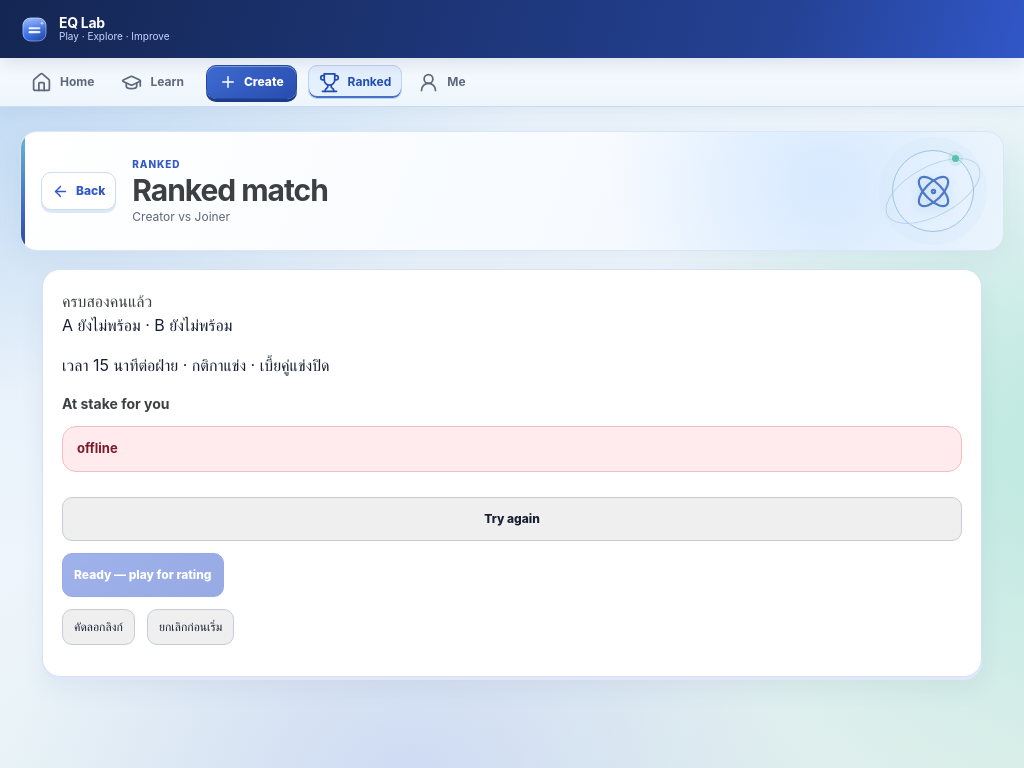
Scenario: the Ready step › offers a retry, and no Ready, when the stakes cannot be loaded
Expected: the message "offline" is shown, [62, 426, 962, 472]
Expected: the button "Ready — play for rating" is disabled, [62, 552, 224, 596]
Click the button "Try again" at (512, 518), box [62, 496, 962, 540]
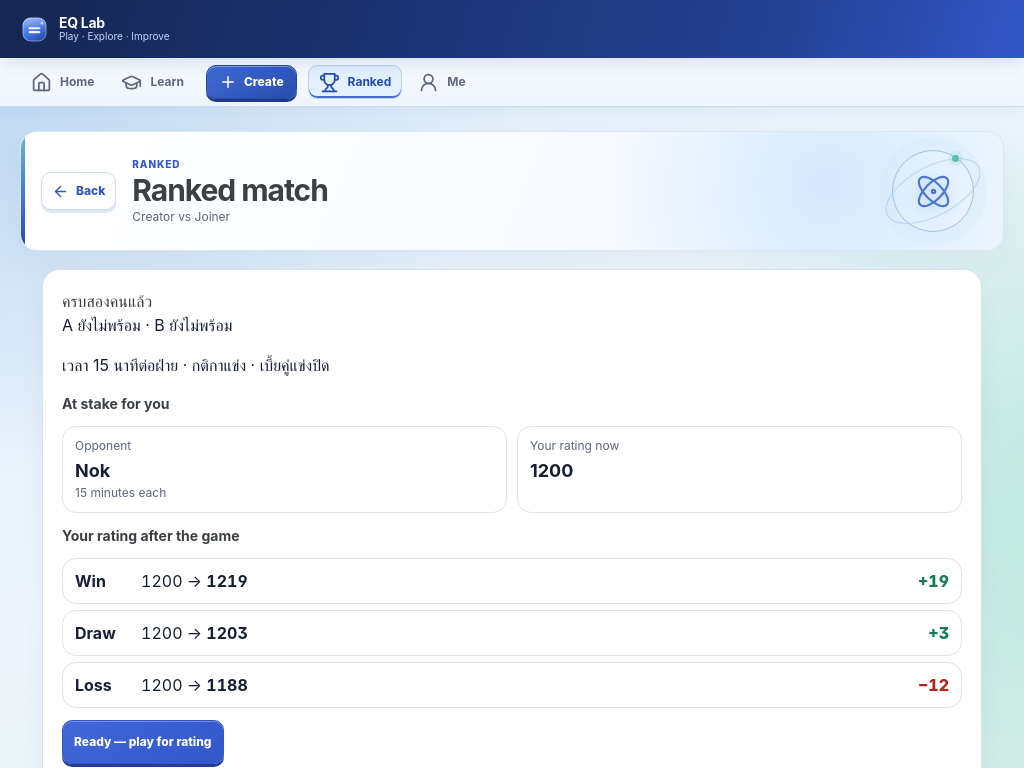
Now the button "Ready — play for rating" is enabled, box [62, 720, 224, 764]
